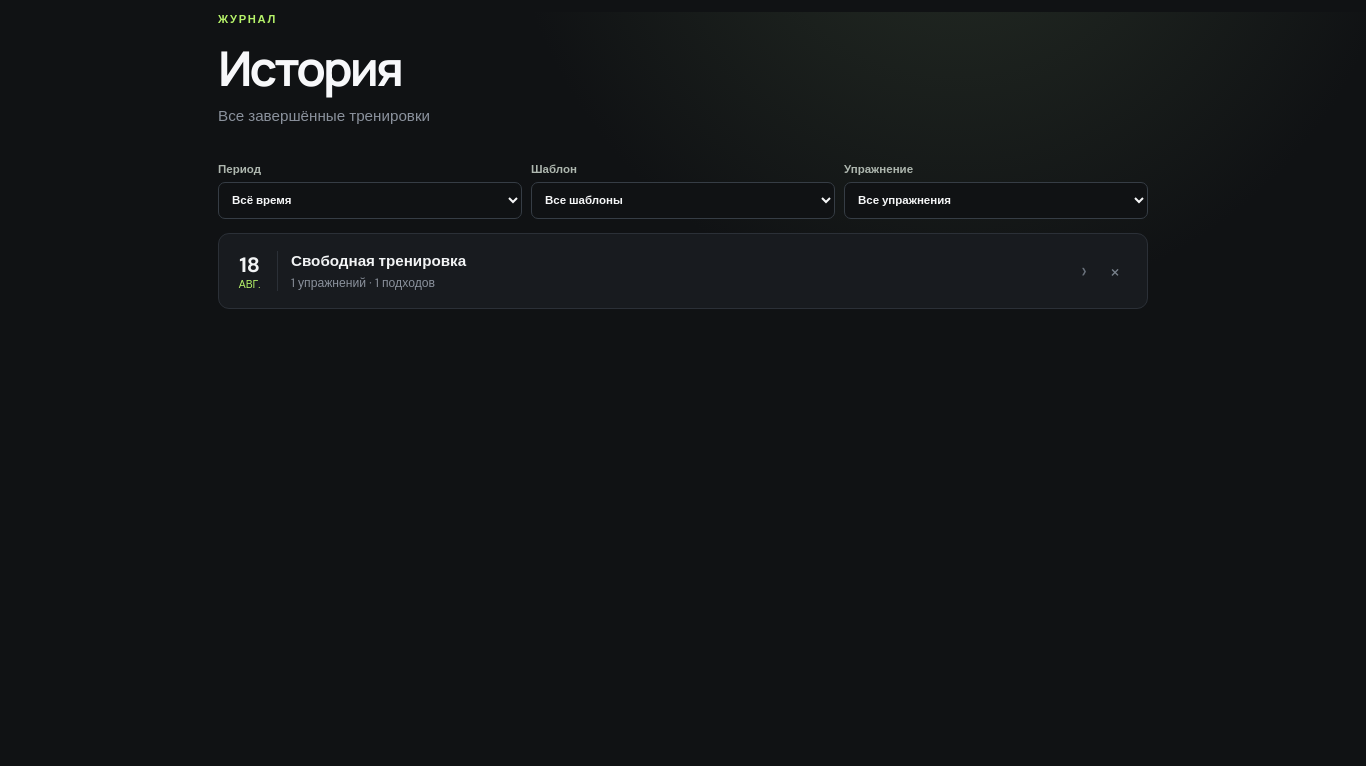
it: HistoryPage › adds and removes exercises while editing a workout
Click the button with aria-label "Открыть тренировку Свободная тренировка" at (257, 271), box [236,251,1087,291]
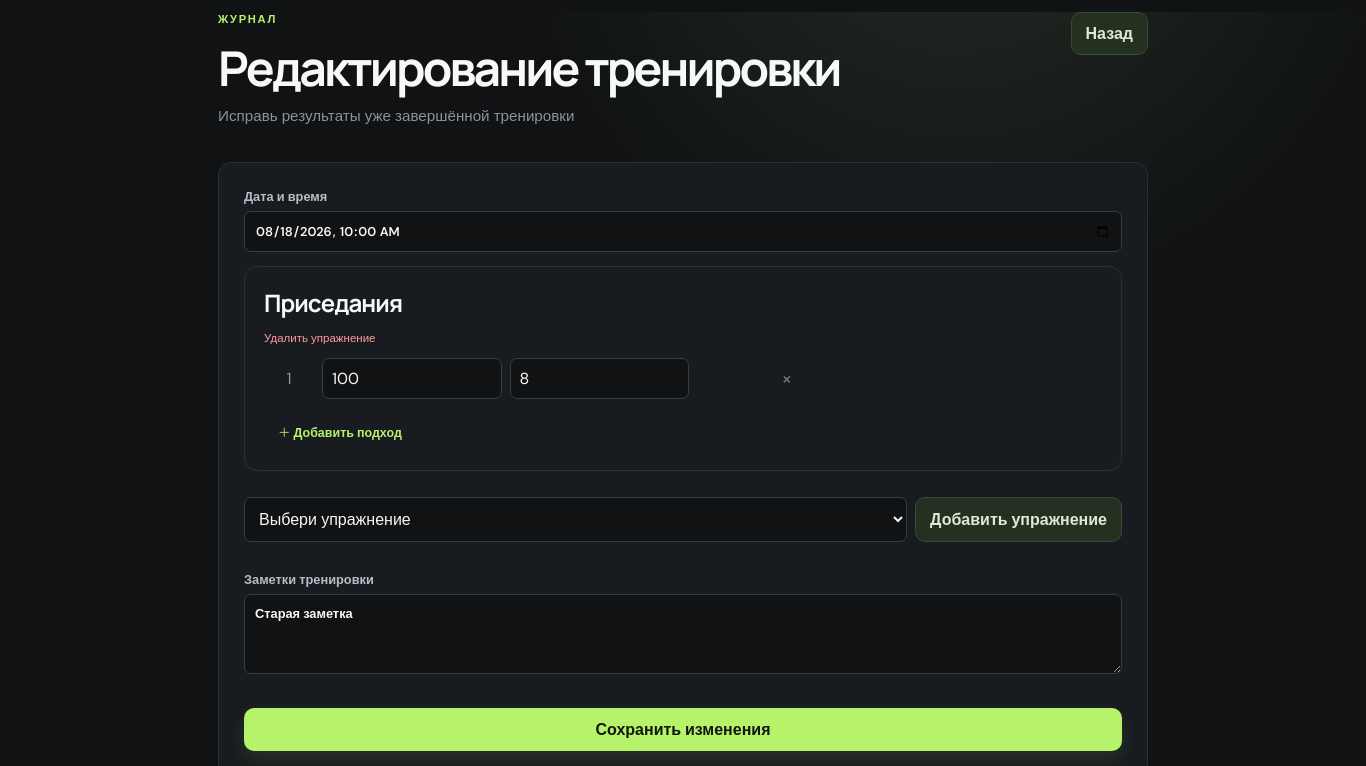
Select "Жим лёжа" in the dropdown named "Новое упражнение" at (576, 519), box [244,497,907,542]
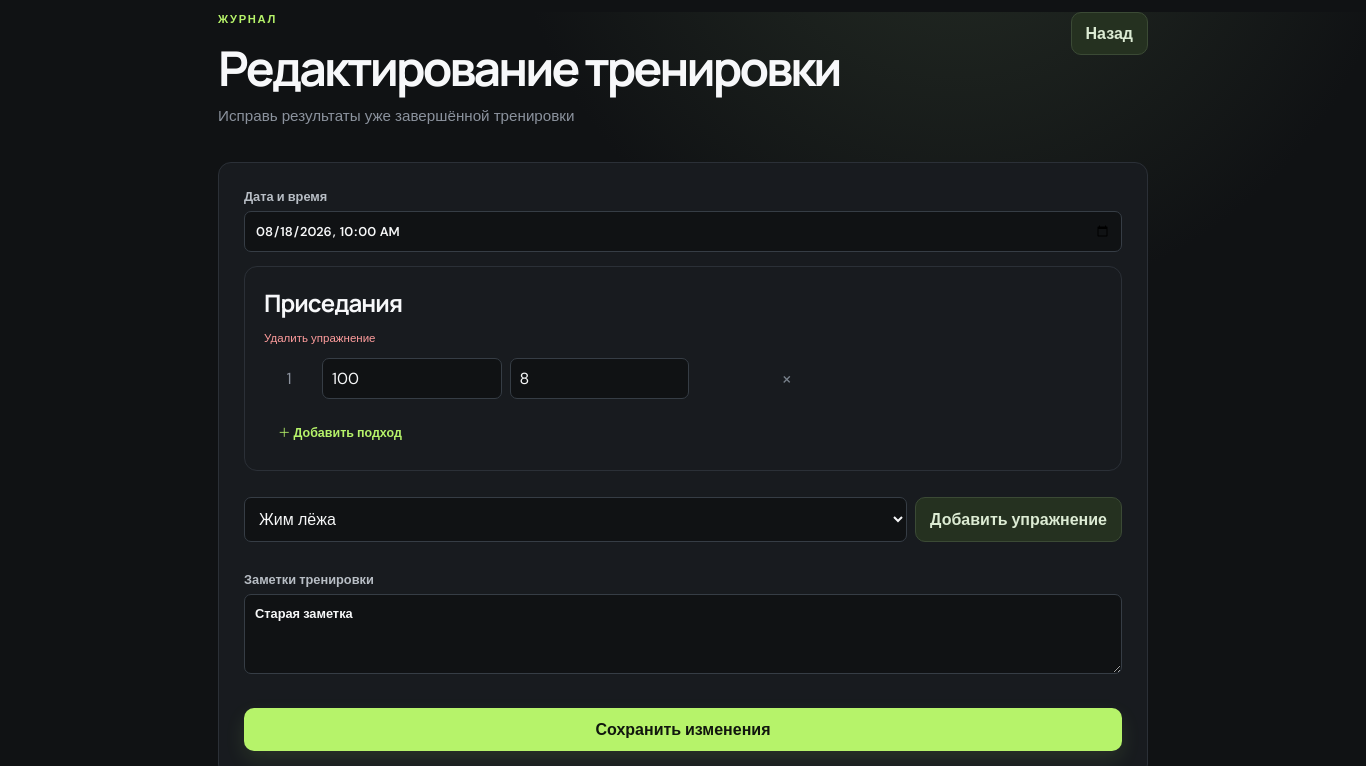
Click the button "Добавить упражнение" at (1019, 519), box [915,497,1122,542]
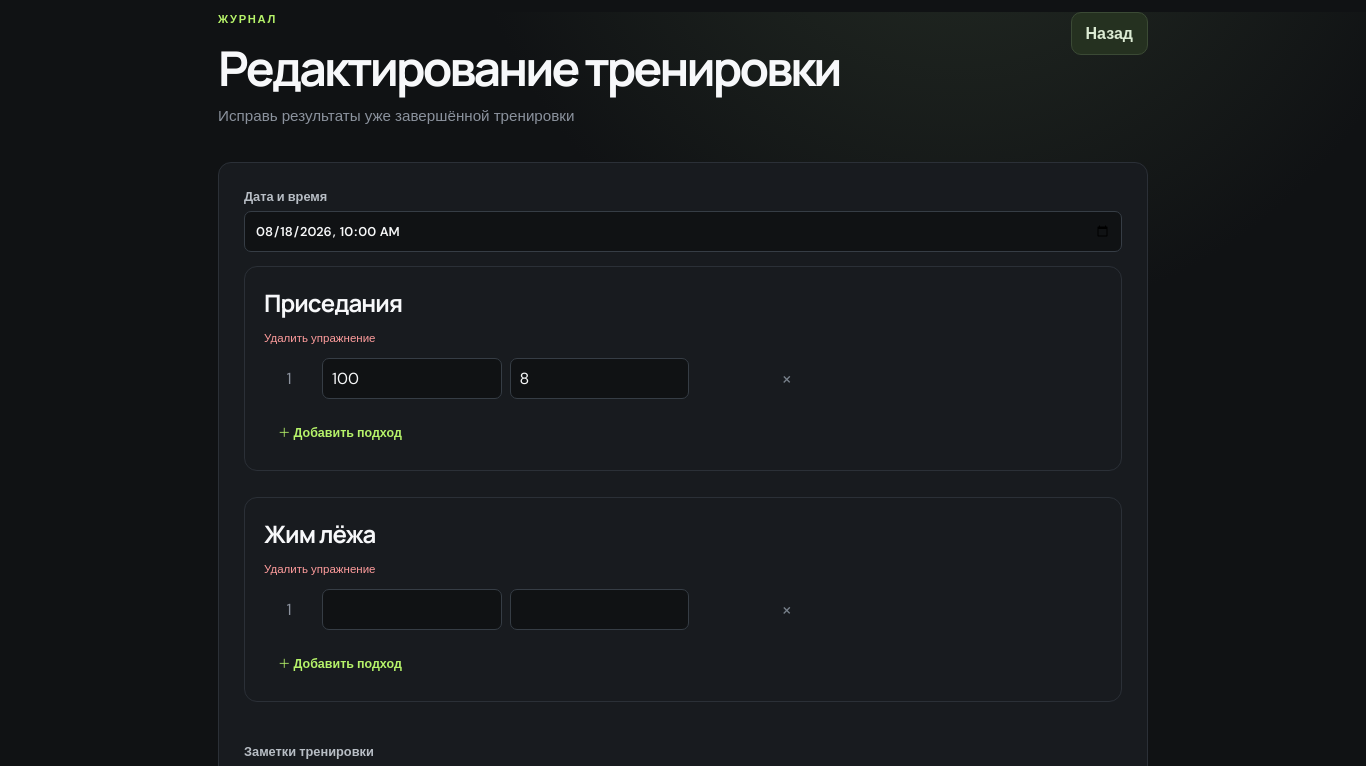
Check: the heading "Жим лёжа" is shown, box [264,517,375,550]
Click the button with aria-label "Удалить упражнение Жим лёжа" at (320, 569), box [264,562,376,577]
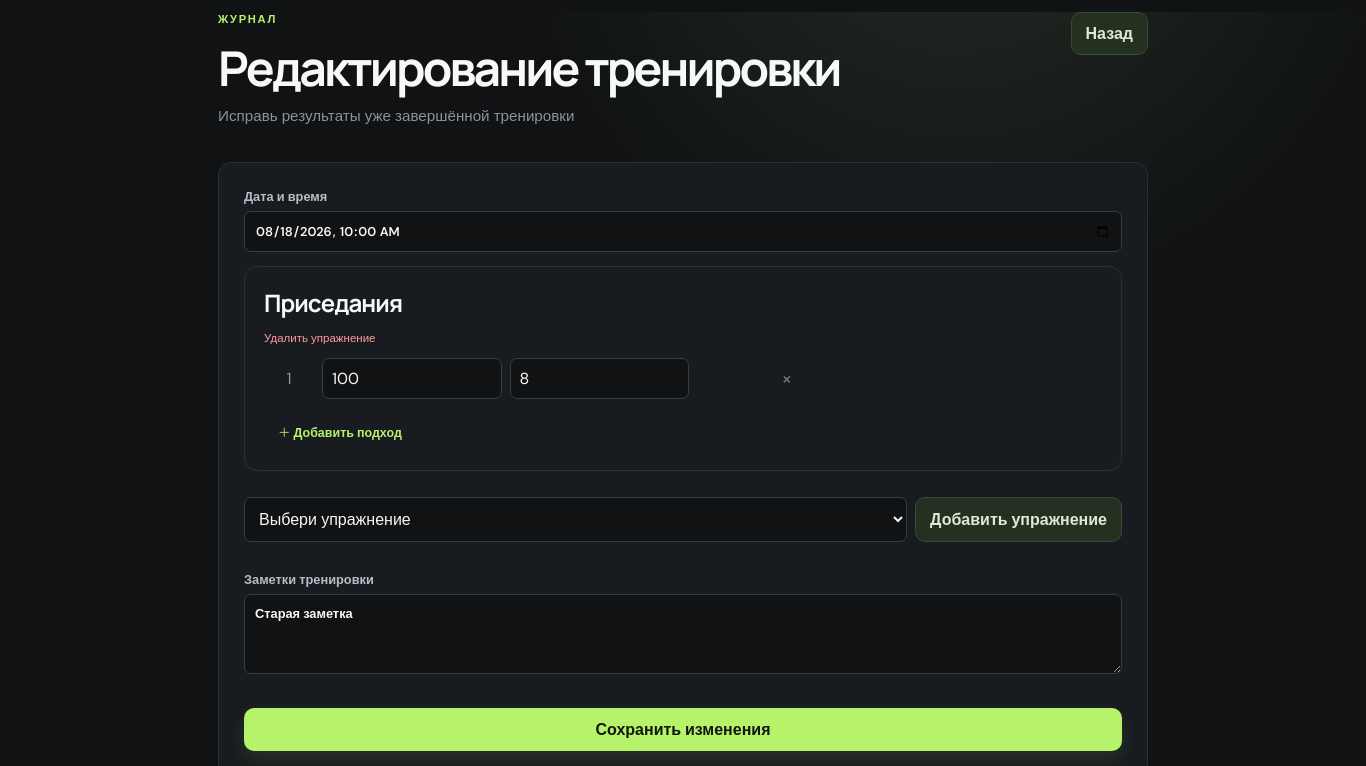
Check: the heading "Жим лёжа" is gone
